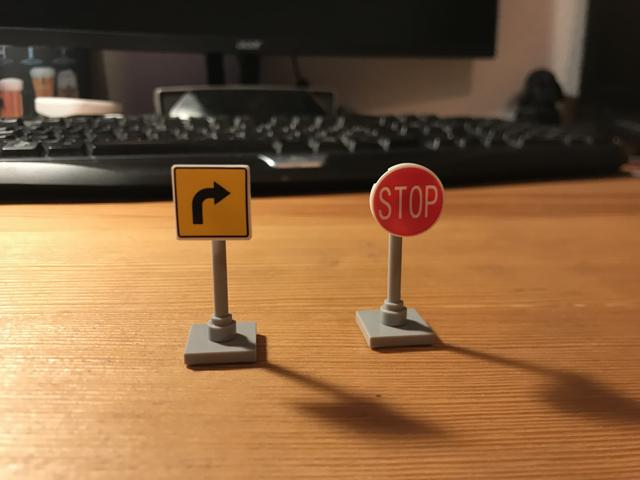fahrtrichtung rechts: (170, 162, 253, 239)
stop: (370, 164, 446, 237)
